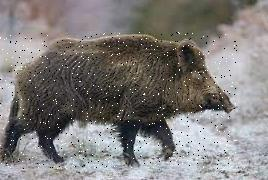Hog: (0, 32, 237, 169)
